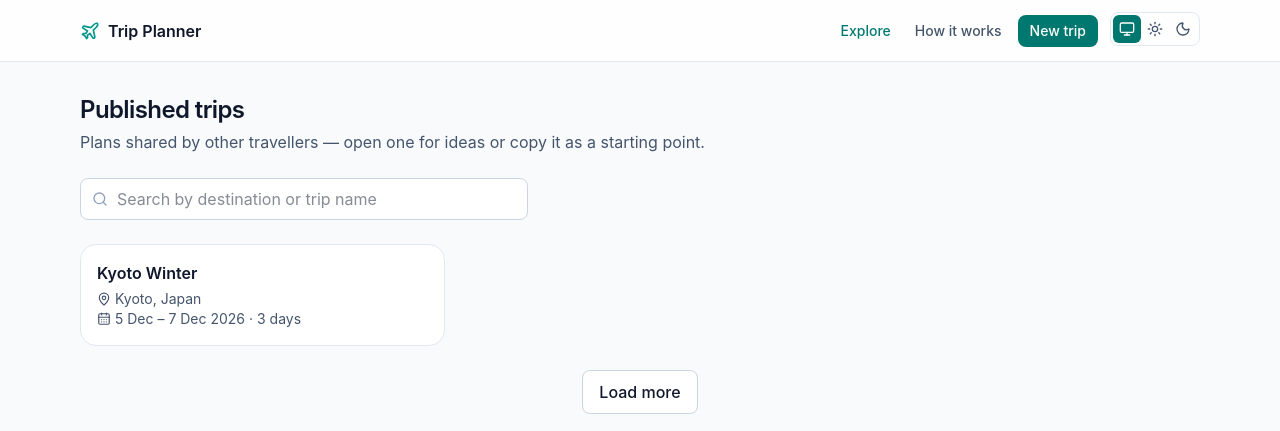
ExplorePage (F4, AC6.1) › lists published trips, searches and loads more
This screenshot has width=1280, height=431.
Step 1. Click the button "Load more" → (640, 392), box [582, 370, 698, 414]
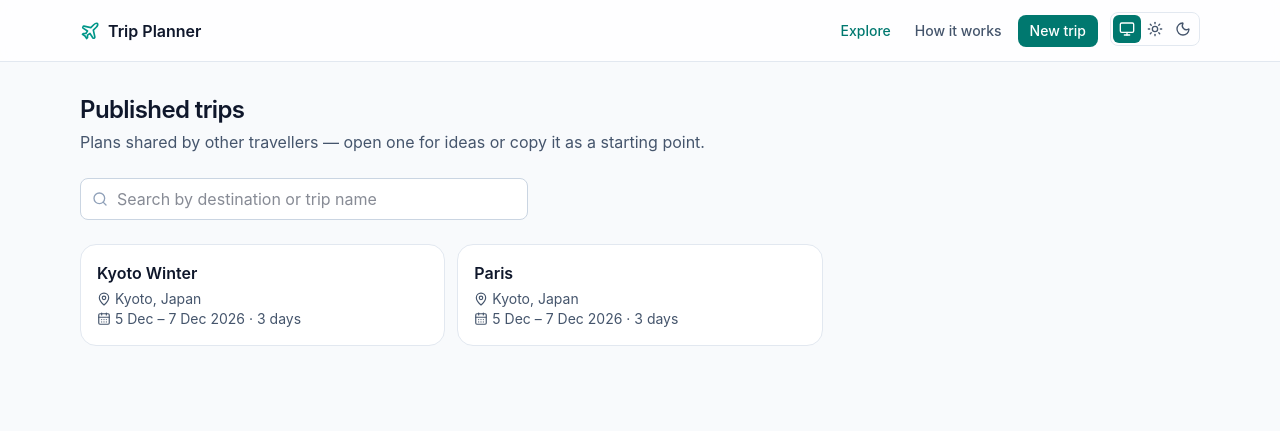
Check: the link "Paris Kyoto, Japan 5 Dec – 7 Dec 2026 · 3 days" is shown, box [457, 244, 823, 346]
Step 2. Type "goa" into the search field labelled "Search by destination or trip name" → (304, 199), box [80, 178, 528, 220]
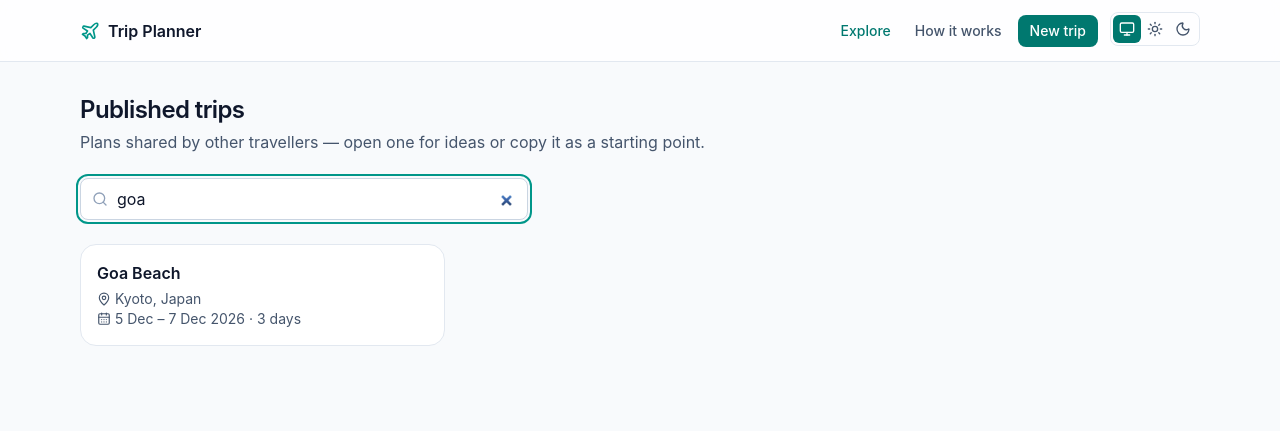
Check: the link "Goa Beach Kyoto, Japan 5 Dec – 7 Dec 2026 · 3 days" is shown, box [80, 244, 445, 346]
